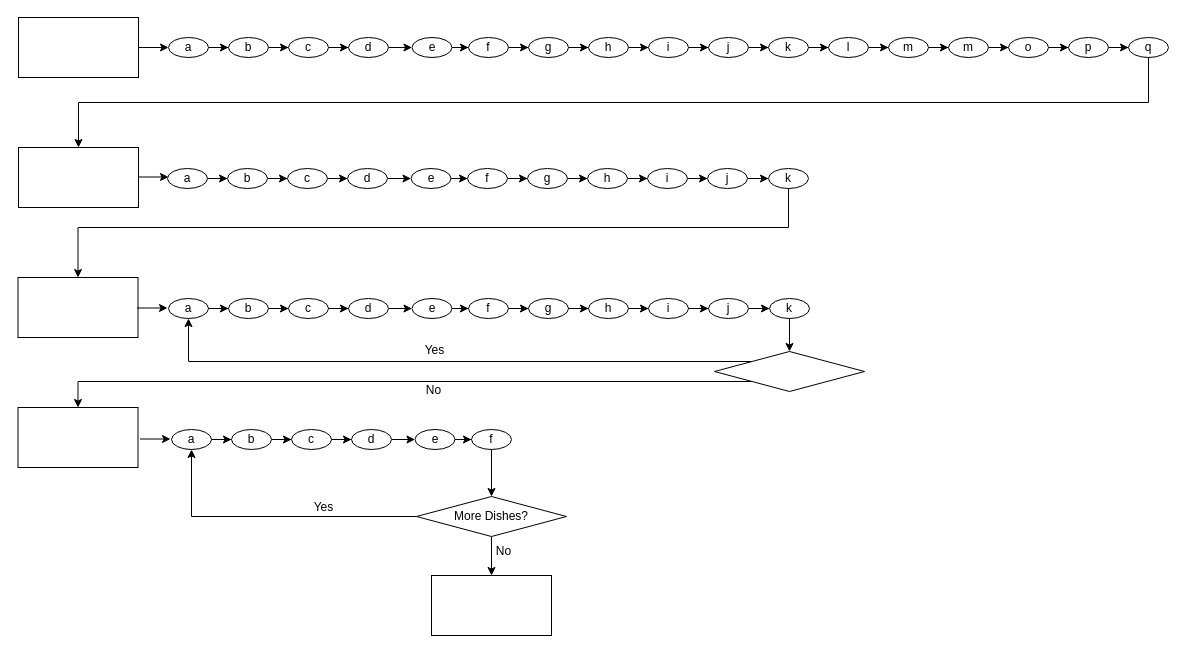
The diagram is 1186 pixels wide and 653 high, and some of its shapes have lost their labels. The shapes that lost their labels are listed below. From the top down, each one's centre as x and y in pixels, then its label:
At (x=78, y=47): "Step 1".
At (x=78, y=177): "Step 2".
At (x=77, y=307): "Step 3".
At (x=789, y=371): "Leftover Dough?".
At (x=77, y=437): "Step 4".
At (x=491, y=605): "Stop/Complete".
